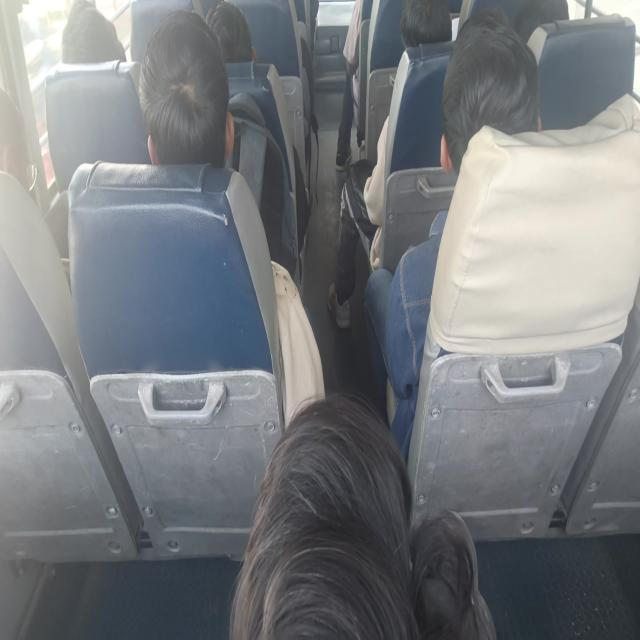person: (230, 403, 491, 640), (438, 17, 540, 180), (140, 31, 237, 171), (52, 0, 122, 64), (0, 79, 35, 189), (199, 0, 259, 59), (393, 0, 465, 47)
